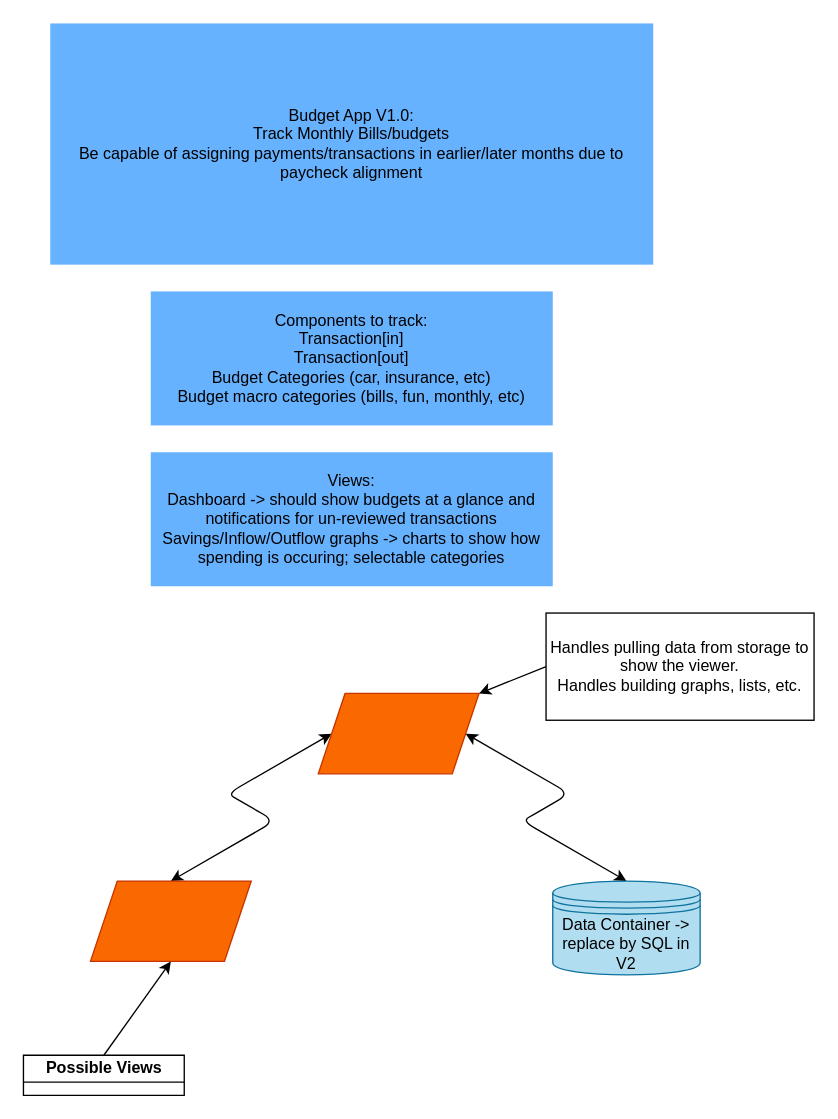
The diagram is 838 pixels wide and 1119 high, and some of its shapes have lost their labels. Each missing label, with the box of its shape:
Controller/logic: (317, 692, 479, 774)
GUI/Dashboard: (89, 880, 251, 961)
